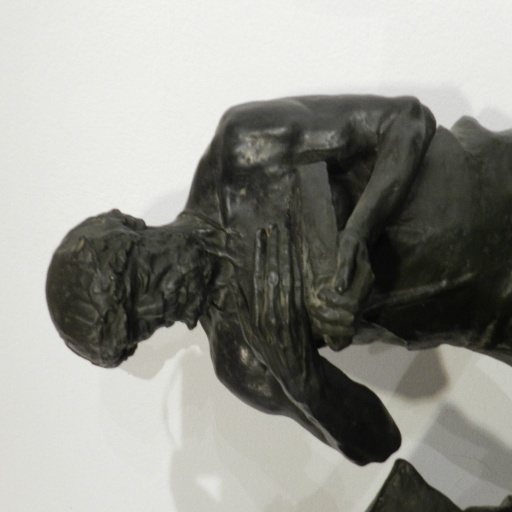hand: (234, 223, 320, 397), (310, 228, 377, 354)
